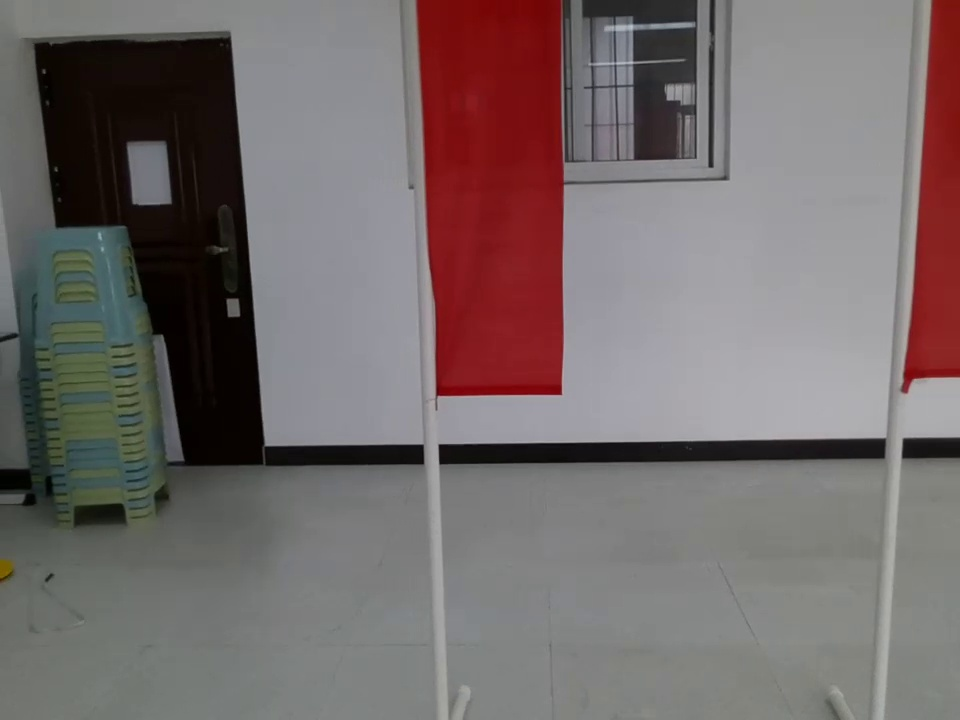qi: (395, 1, 574, 406), (883, 3, 960, 435)
